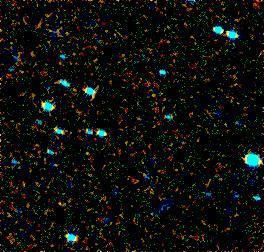star: (61, 72, 91, 102)
